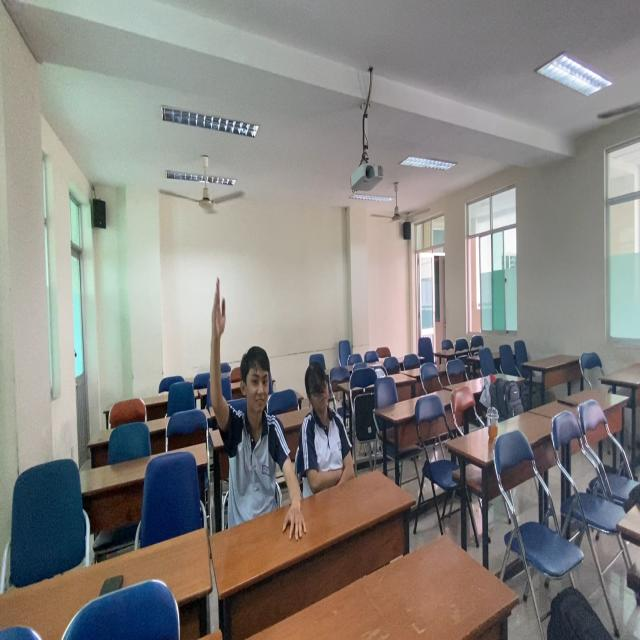raise_hand: (206, 274, 305, 543)
